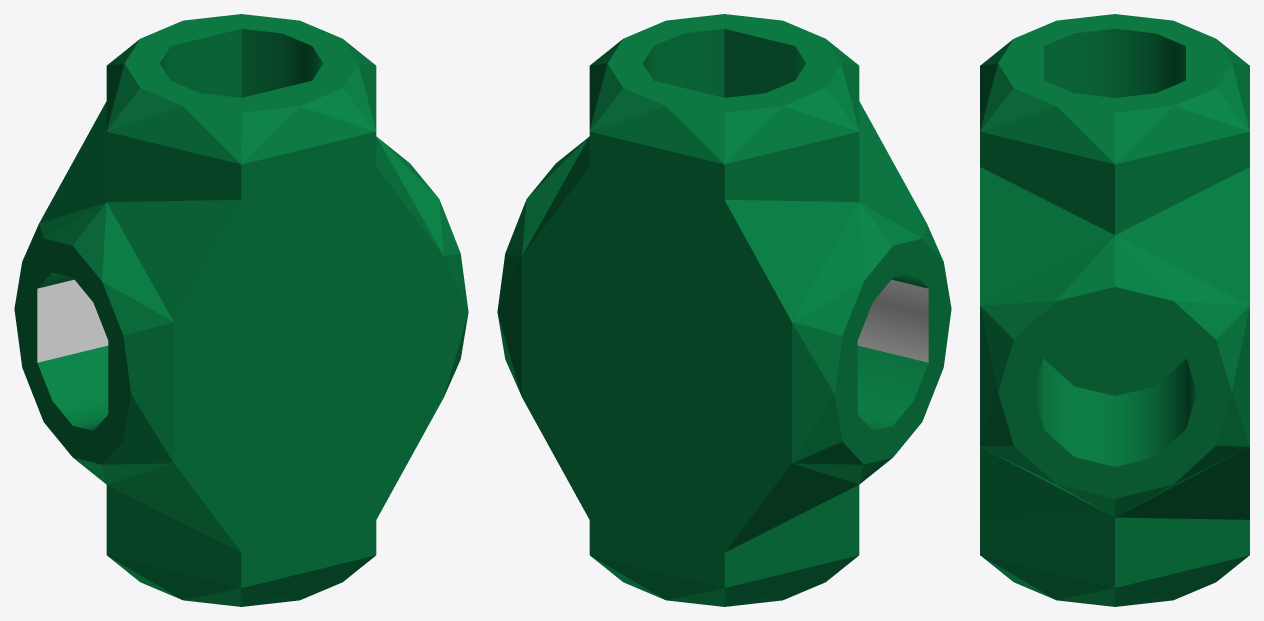
File: Universal Joint Core.obj
3 views of the same model, side by side, from view 1: azimuth 30°, elevation 25°; view 2: azimuth 150°, elevation 25°; view 3: azimuth 270°, elevation 25° (orthographic).
Visible parts, largest first — view 1: Mesh1 Model; view 2: Mesh1 Model; view 3: Mesh1 Model.
Boxes of the visible parts, x1,y1,x2,y2 form: Mesh1 Model: (14,14,468,606); Mesh1 Model: (497,14,951,606); Mesh1 Model: (980,14,1249,606).
Bounding box in the file's own units: 10 × 14 × 6.93.
